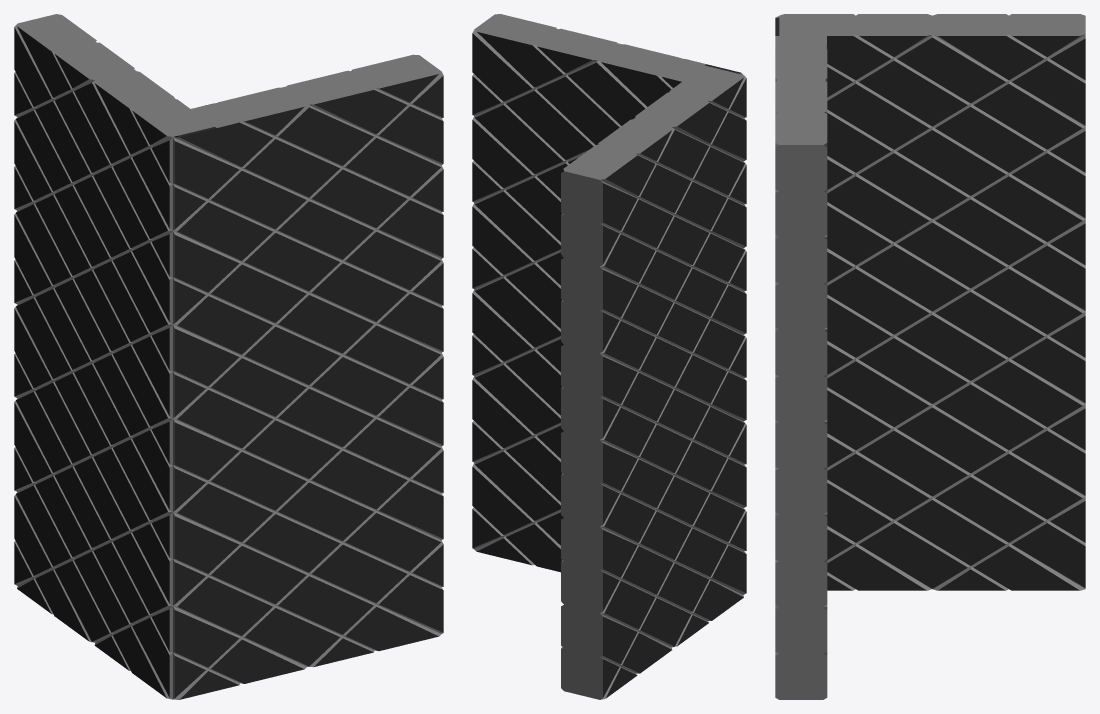
The model's file is DiagonalTileCorner.glb.
3 renders of one model, left to right at view 1: azimuth 30°, elevation 25°; view 2: azimuth 150°, elevation 25°; view 3: azimuth 270°, elevation 25°, orthographic. The views are drawn at different scales.
Parts seen in each view (by area): view 1: wall_diagonalTile_corner; view 2: wall_diagonalTile_corner; view 3: wall_diagonalTile_corner.
Part boxes in pixels (x1,y1,x2,y2): wall_diagonalTile_corner: [14, 14, 443, 699]; wall_diagonalTile_corner: [472, 14, 746, 699]; wall_diagonalTile_corner: [775, 14, 1085, 699].
Size of what is drawn, in the model's own units: 2.03 by 4 by 2.03.
1 material, 1 textured.
